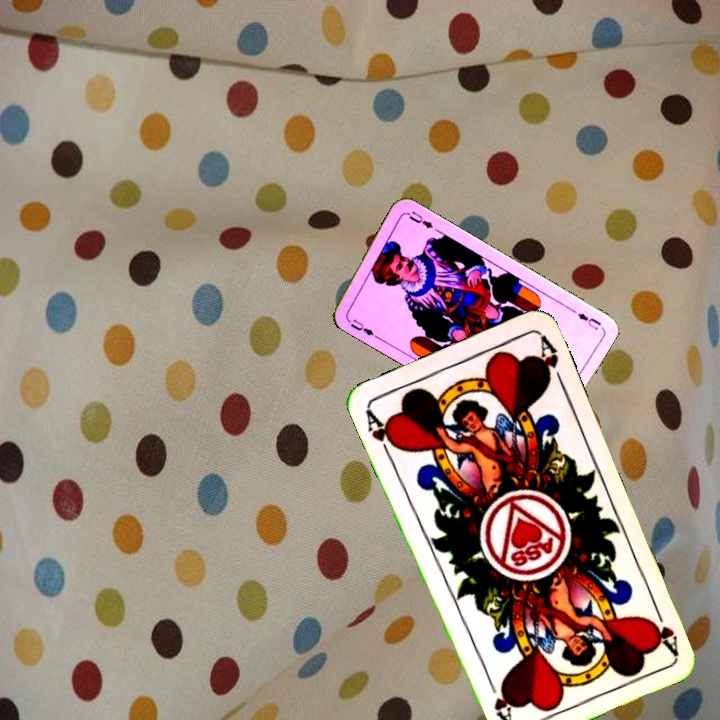EU: (343, 313, 379, 340), (574, 309, 604, 333)
HA: (361, 406, 402, 462), (648, 599, 681, 656)
